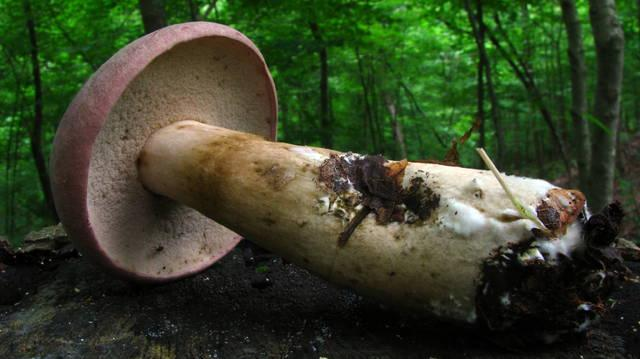poisonous_mushroom: (47, 15, 614, 357)
